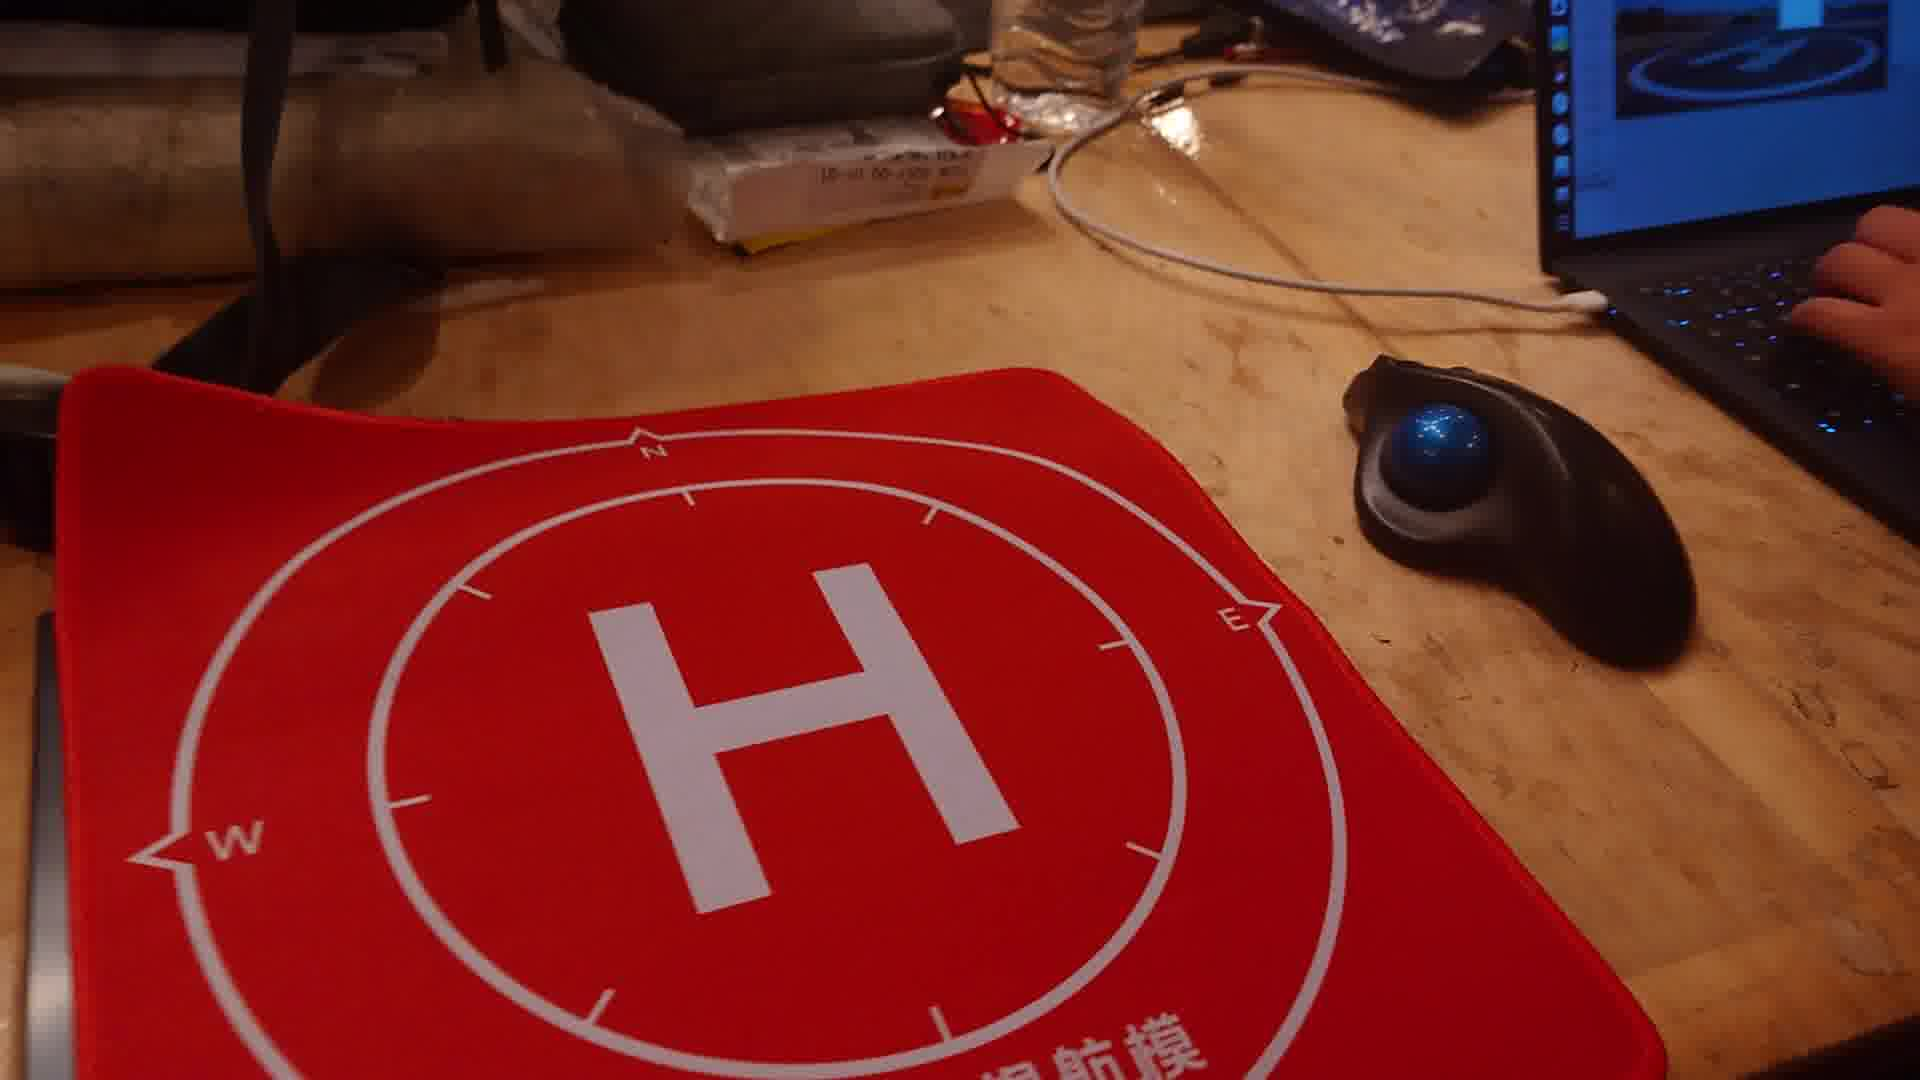H: (589, 564, 1025, 914)
